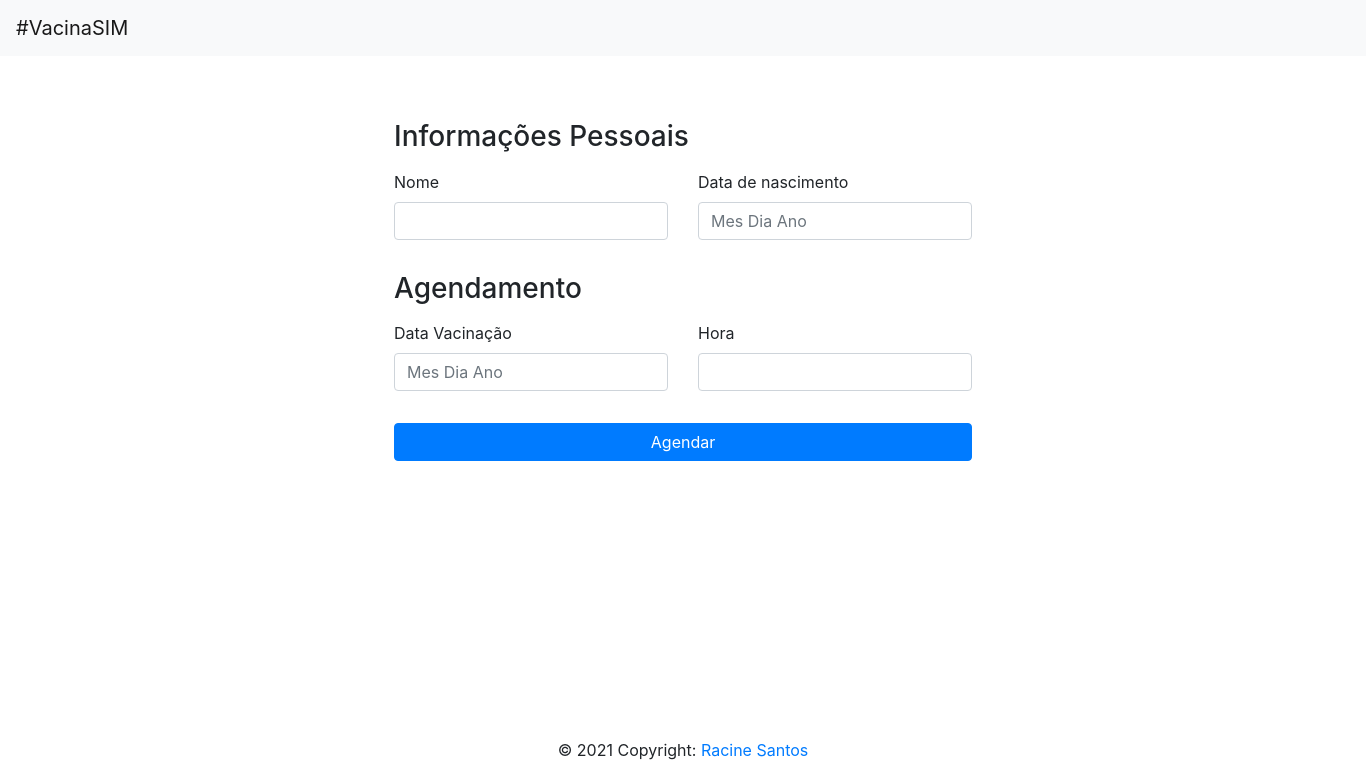
Test: Enfermeiro button navigation
This screenshot has width=1366, height=768.
Expected: the text "#VacinaSIM" is shown, [16, 8, 128, 48]
What coordinates should you click on to do the following:
click the link "#VacinaSIM"
I would click on:
 (80, 28)
Its box is [16, 8, 144, 48].
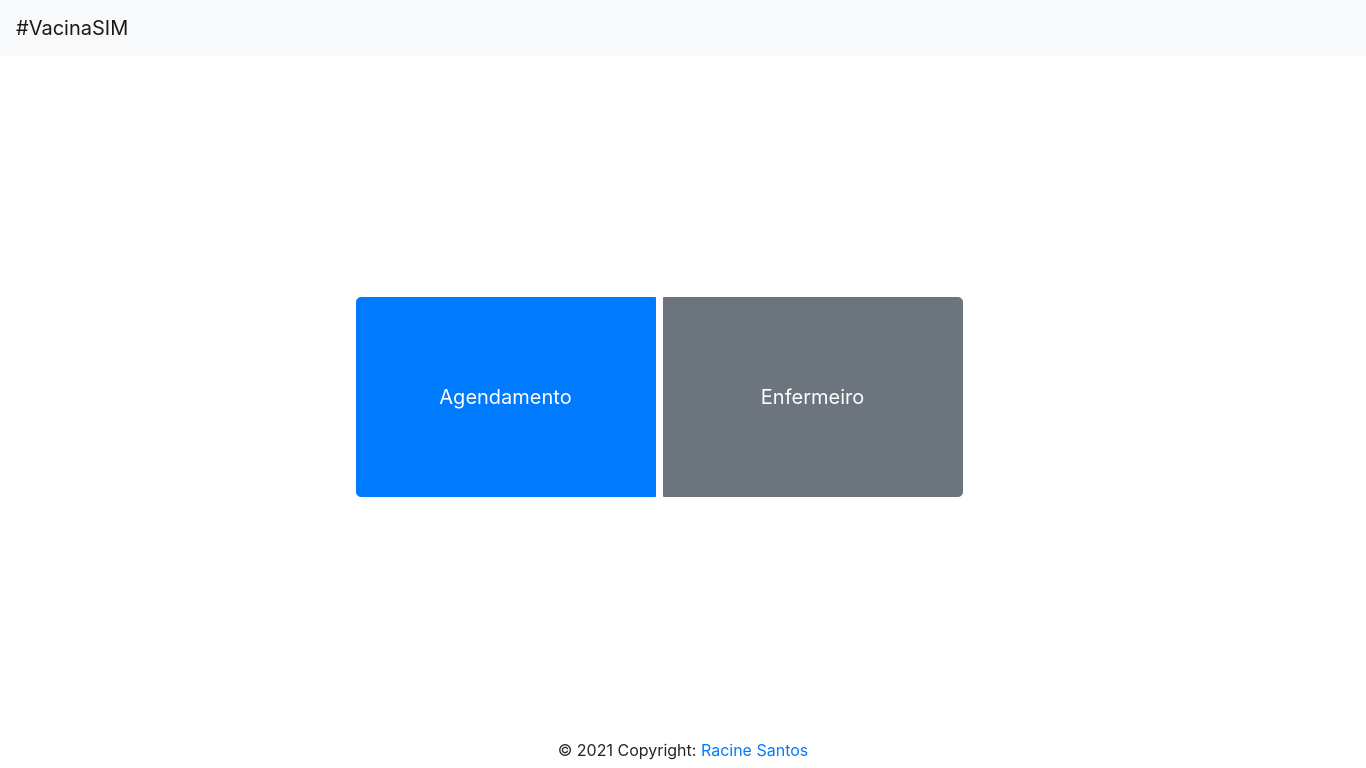
Now the button titled "enfermeiro-btn" is shown
What coordinates should you click on to do the following:
click the button titled "enfermeiro-btn"
I would click on:
 (812, 397)
Its box is [662, 297, 962, 497].
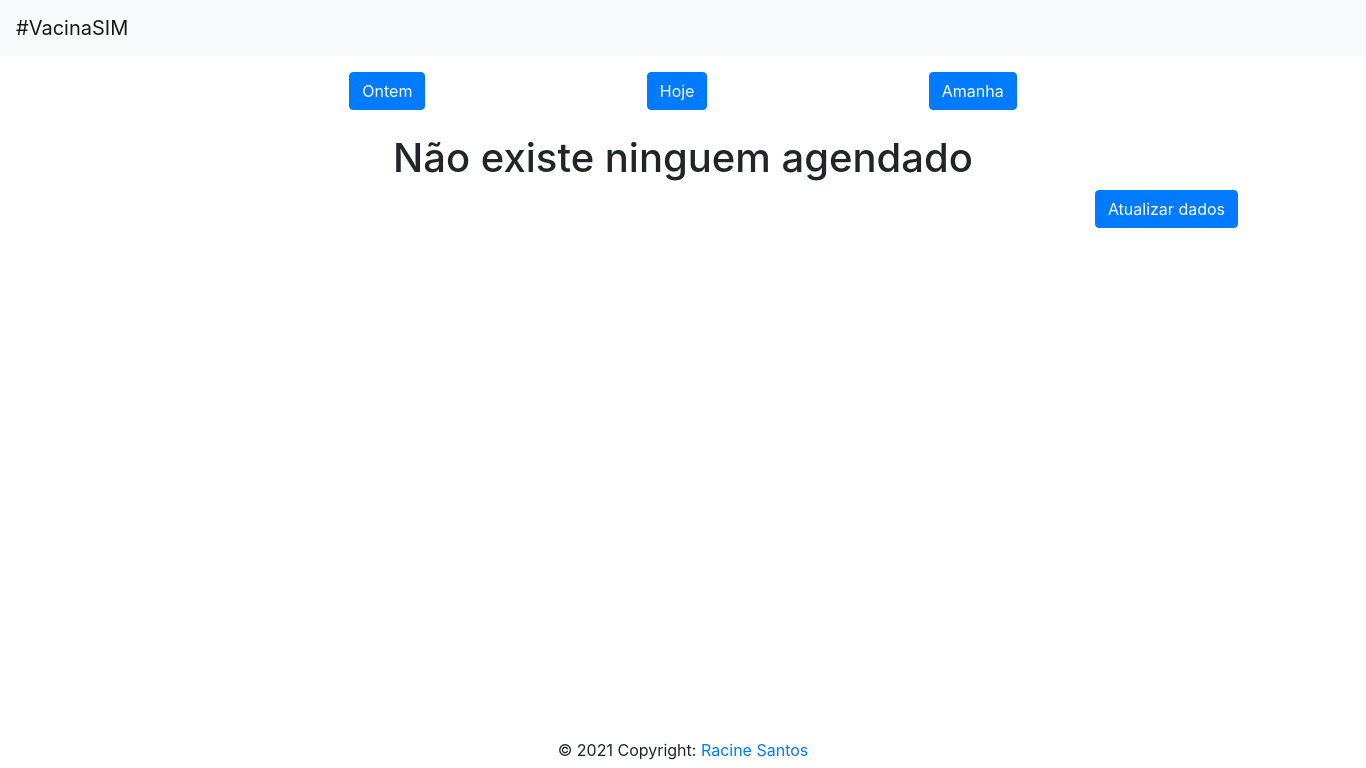
Now the element with test id "list-wrapper" is shown, box [349, 72, 1238, 228]
